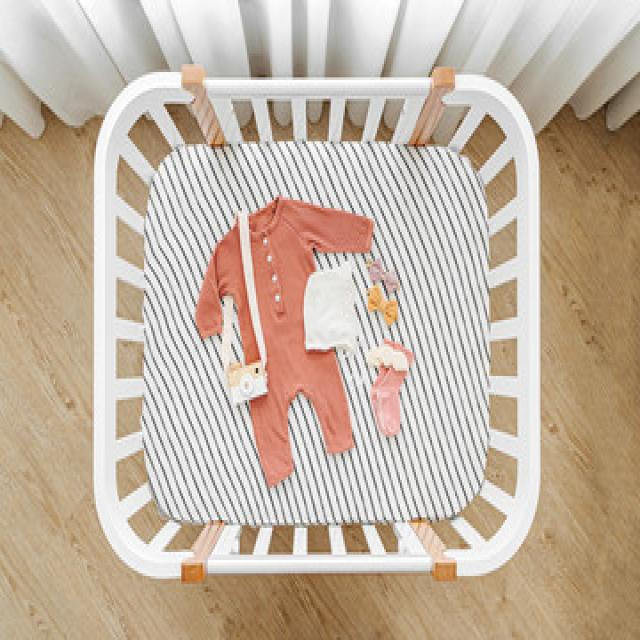crib: (91, 59, 542, 584)
